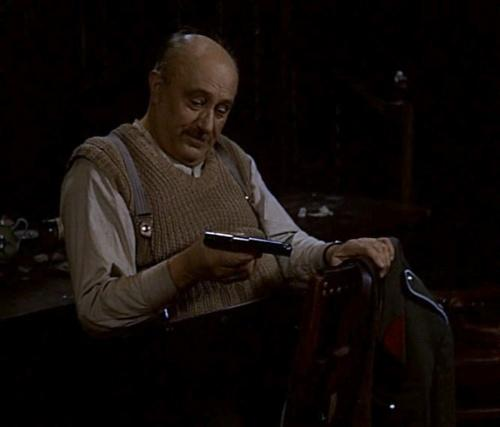Gun: (203, 229, 287, 260)
